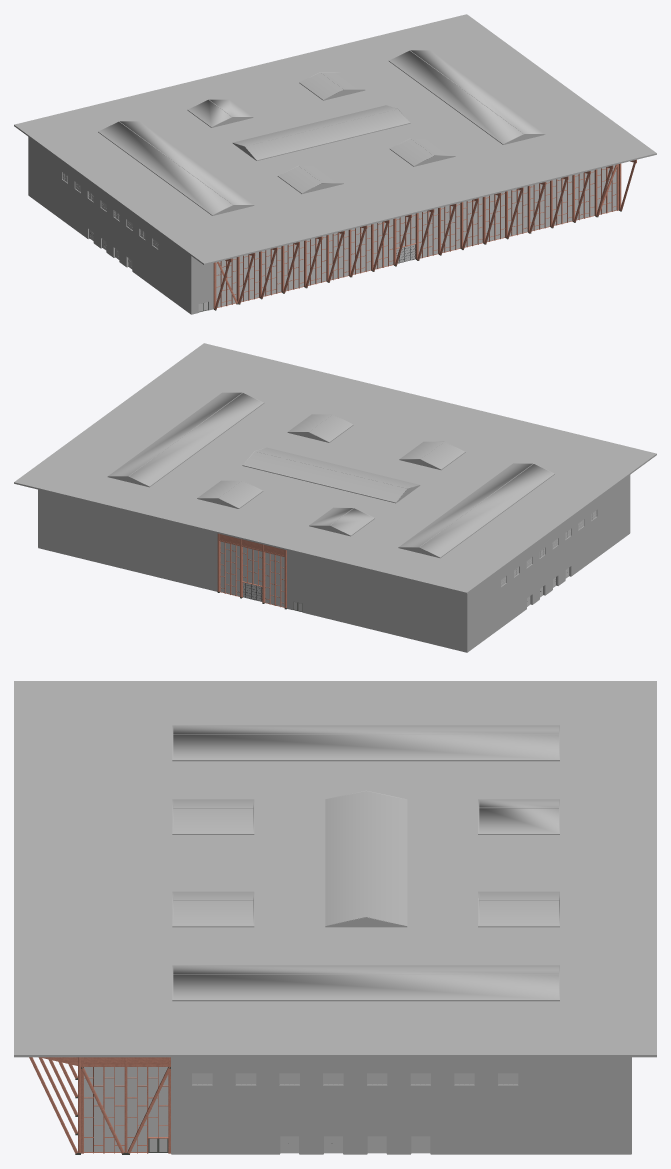
Rendered from Warehouse.fbx.
3 views of the same model, one above another, from view 1: azimuth 30°, elevation 25°; view 2: azimuth 150°, elevation 25°; view 3: azimuth 270°, elevation 25° (orthographic). The views are drawn at different scales.
Visible parts, largest first — view 1: BrickStage, Main, DoorsAndGates; view 2: BrickStage, Main, DoorsAndGates; view 3: BrickStage, Main, DoorsAndGates.
Part boxes in pixels (box(x1,y1,x2,y2)): BrickStage: box(14, 14, 656, 314); Main: box(89, 159, 636, 310); DoorsAndGates: box(62, 173, 415, 312); BrickStage: box(14, 343, 656, 652); Main: box(217, 533, 569, 609); DoorsAndGates: box(243, 510, 596, 612); BrickStage: box(14, 681, 656, 1154); Main: box(29, 1057, 170, 1154); DoorsAndGates: box(148, 1073, 518, 1152).
Size of what is drawn, in the model's own units: 12960 by 2000 by 9420.
